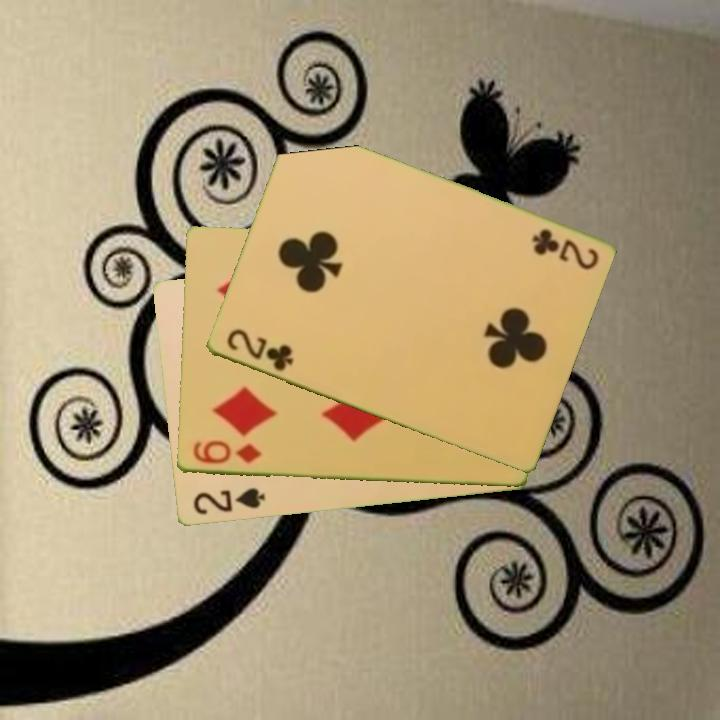2c: (222, 325, 296, 374), (528, 225, 601, 273)
2s: (189, 484, 268, 518)
6d: (189, 437, 265, 467)
